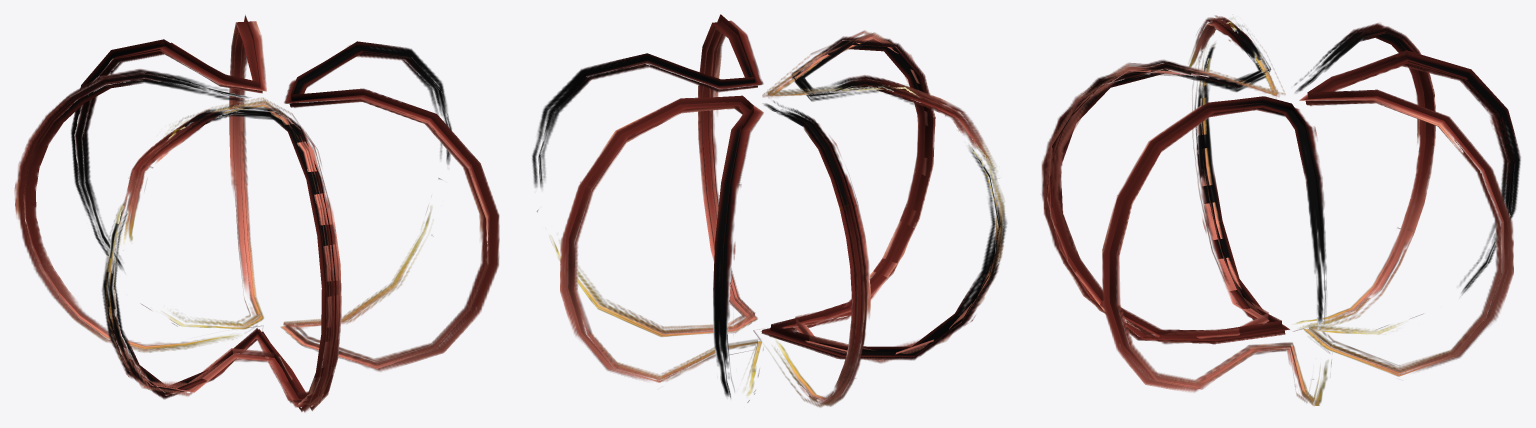
Rendered from stroke.glb.
3 renders of one model, left to right at view 1: azimuth 30°, elevation 25°; view 2: azimuth 150°, elevation 25°; view 3: azimuth 270°, elevation 25°, orthographic.
Visible parts, largest first — view 1: PumpkinCurves1; view 2: PumpkinCurves1; view 3: PumpkinCurves1.
Boxes of the visible parts, x1,y1,x2,y2 form: PumpkinCurves1: (14, 15, 499, 412); PumpkinCurves1: (532, 14, 1006, 407); PumpkinCurves1: (1041, 15, 1520, 405).
Size of the model in its own units: 3.94 by 2.58 by 3.9.
Materials: 1 (1 with a texture image).
